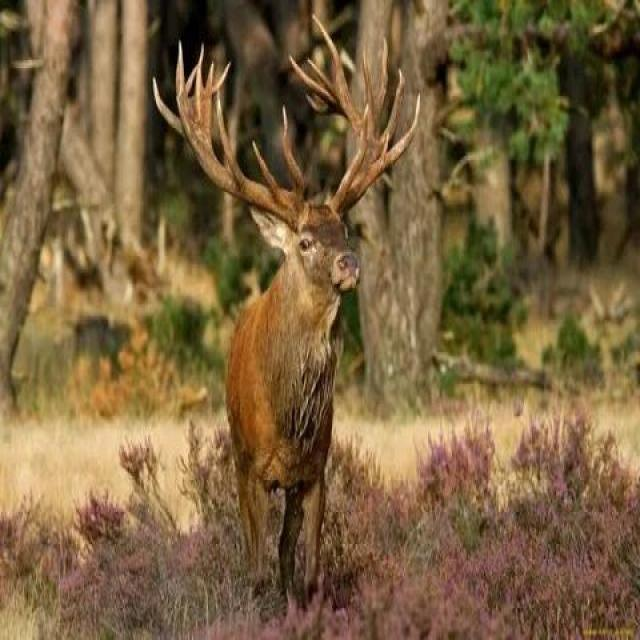deer: (162, 89, 414, 574)
